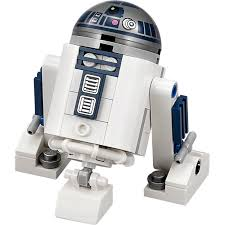r2d2: (13, 1, 209, 224)
